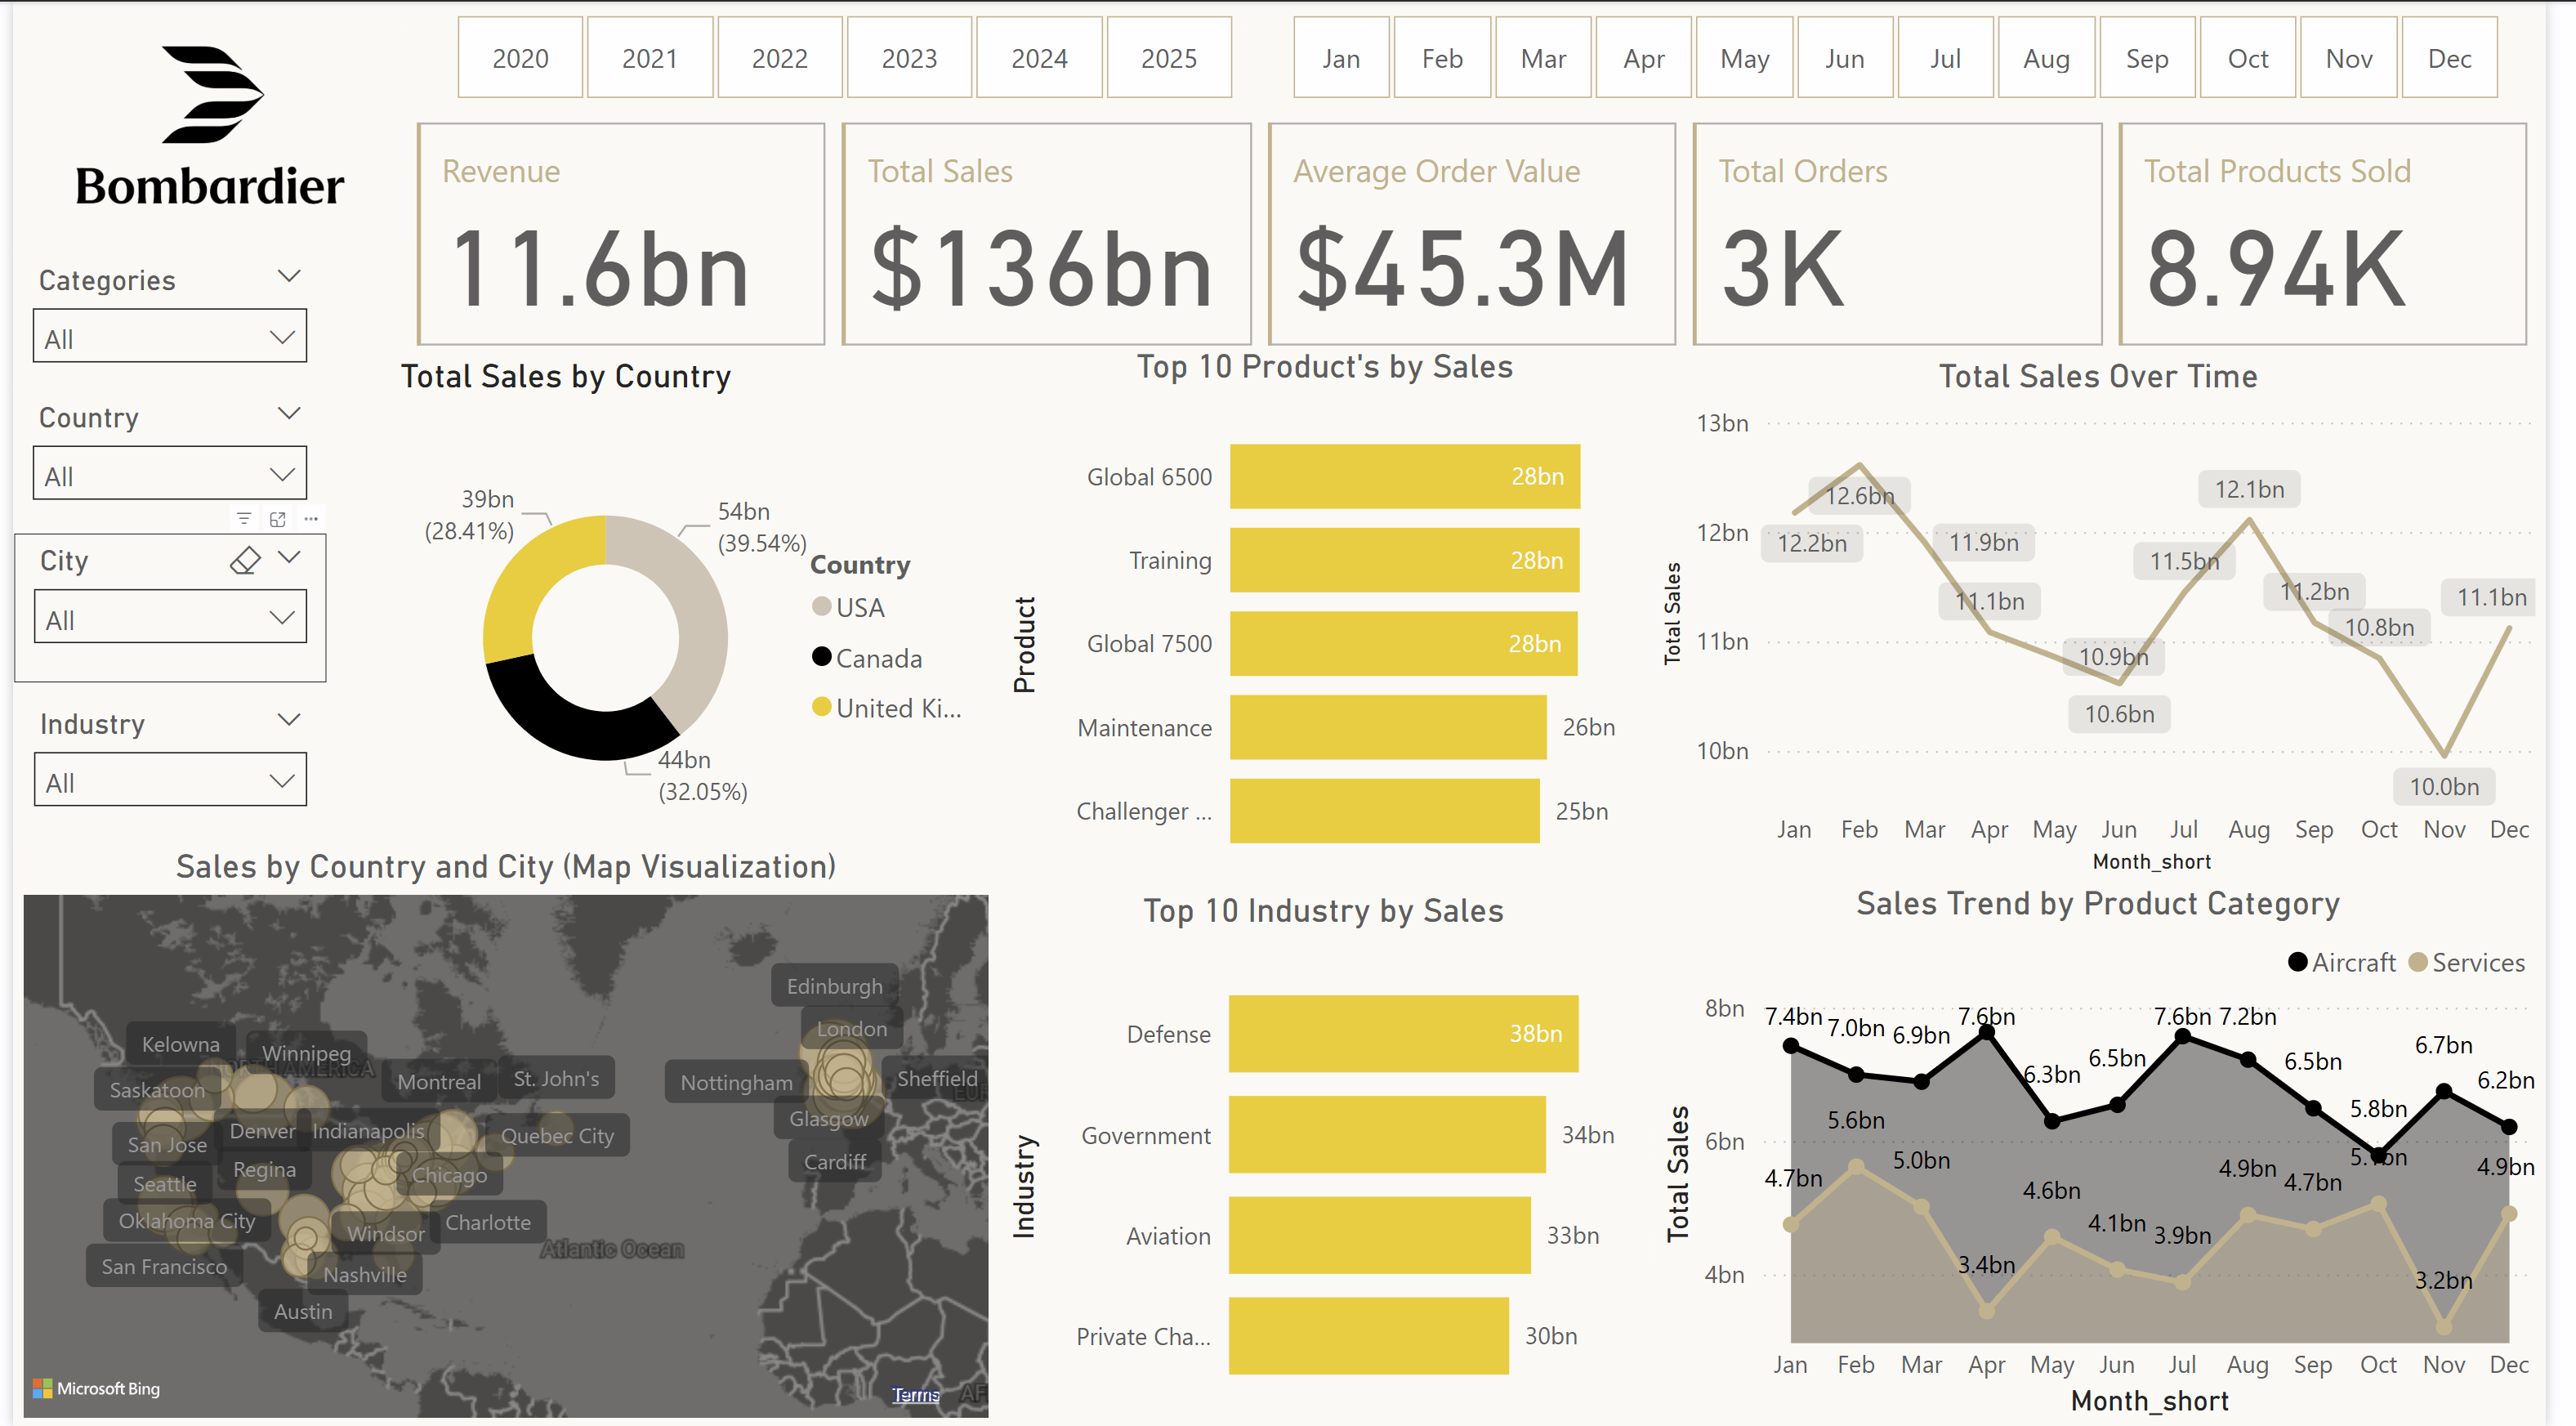

Layout of this report page (visuals, bound fields, positions):
{"tool":"powerbi","page":{"name":"Sales","canvas":[1280,720],"ordinal":0},"visuals":[{"type":"cardVisual","fields":{"Data":["Measure Vals.Sales - Budget","Measure Vals.Total Sales","Measure Vals.Average Order Value","Measure Vals.Total Orders","Measure Vals.Total Products Sold"]},"box":[198.7,55.8,1081.1,123.8],"z":0},{"type":"barChart","title":"Top 10  Product''s by Sales","fields":{"Y":["Measure Vals.Total Sales"],"Category":["Products.Product_Subcategory"]},"box":[497.8,174.3,330.4,274.2],"z":1000},{"type":"slicer","fields":{"Values":["Customers.Country"]},"box":[0,196.4,158.6,64.3],"z":2000},{"type":"slicer","fields":{"Values":["Customers.City"]},"box":[0.7,268.6,157.9,75],"z":3000},{"type":"slicer","fields":{"Values":["Products.Product_Category"]},"box":[0,127.1,158.6,62.9],"z":4000},{"type":"slicer","fields":{"Values":["Calendar.CalendarYear"]},"box":[198.8,0,441.4,55.6],"z":6000},{"type":"slicer","fields":{"Values":["Calendar.Month_short"]},"box":[621.2,0,658.8,55.6],"z":7000},{"type":"donutChart","fields":{"Y":["Measure Vals.Total Sales"],"Category":["Customers.Country"]},"box":[191,179.2,306,265.5],"z":8000},{"type":"lineChart","title":"Total Sales Over Time","fields":{"Y":["Measure Vals.Total Sales"],"Category":["Calendar.Month_short"]},"box":[827.9,179.2,451.9,266.2],"z":9000},{"type":"areaChart","title":"Sales Trend by Product Category","fields":{"Category":["Calendar.Month_short"],"Series":["Products.Product_Category"],"Y":["Measure Vals.Total Sales"]},"box":[827.9,445.3,451.9,274.7],"z":10000},{"type":"barChart","title":"Top 10  Industry by Sales","fields":{"Y":["Measure Vals.Total Sales"],"Category":["Customers.Industry"]},"box":[497.5,448.7,330,271.6],"z":11000},{"type":"map","title":"Sales by Country and City (Map Visualization)","fields":{"Size":["Measure Vals.Total Sales"],"Category":["Customers.City"]},"box":[0,426.4,497.9,293.6],"z":12000},{"type":"slicer","fields":{"Values":["Customers.Industry"]},"box":[0.7,351.4,157.9,75],"z":13000},{"type":"image","box":[0.6,0.6,198.2,126.3],"z":13001}]}

Visuals, with their boxes in screenshot pixels (x1, y1, x2, y2), scaled from the page's 1280x720 canvas onto the 2576x1426 screenshot:
cardVisual - Measure Vals.Sales - Budget x Measure Vals.Total Sales: {"left": 400, "top": 110, "right": 2575, "bottom": 355}
"Top 10  Product''s by Sales" barChart: {"left": 1002, "top": 345, "right": 1667, "bottom": 888}
slicer - Customers.Country: {"left": 0, "top": 389, "right": 319, "bottom": 516}
slicer - Customers.City: {"left": 2, "top": 532, "right": 319, "bottom": 681}
slicer - Products.Product_Category: {"left": 0, "top": 252, "right": 319, "bottom": 376}
slicer - Calendar.CalendarYear: {"left": 400, "top": 0, "right": 1288, "bottom": 110}
slicer - Calendar.Month_short: {"left": 1250, "top": 0, "right": 2575, "bottom": 110}
donutChart - Measure Vals.Total Sales x Customers.Country: {"left": 384, "top": 355, "right": 1000, "bottom": 881}
"Total Sales Over Time" lineChart: {"left": 1666, "top": 355, "right": 2575, "bottom": 882}
"Sales Trend by Product Category" areaChart: {"left": 1666, "top": 882, "right": 2575, "bottom": 1425}
"Top 10  Industry by Sales" barChart: {"left": 1001, "top": 888, "right": 1665, "bottom": 1425}
"Sales by Country and City (Map Visualization)" map: {"left": 0, "top": 844, "right": 1002, "bottom": 1425}
slicer - Customers.Industry: {"left": 2, "top": 696, "right": 319, "bottom": 844}
image: {"left": 1, "top": 1, "right": 400, "bottom": 252}
